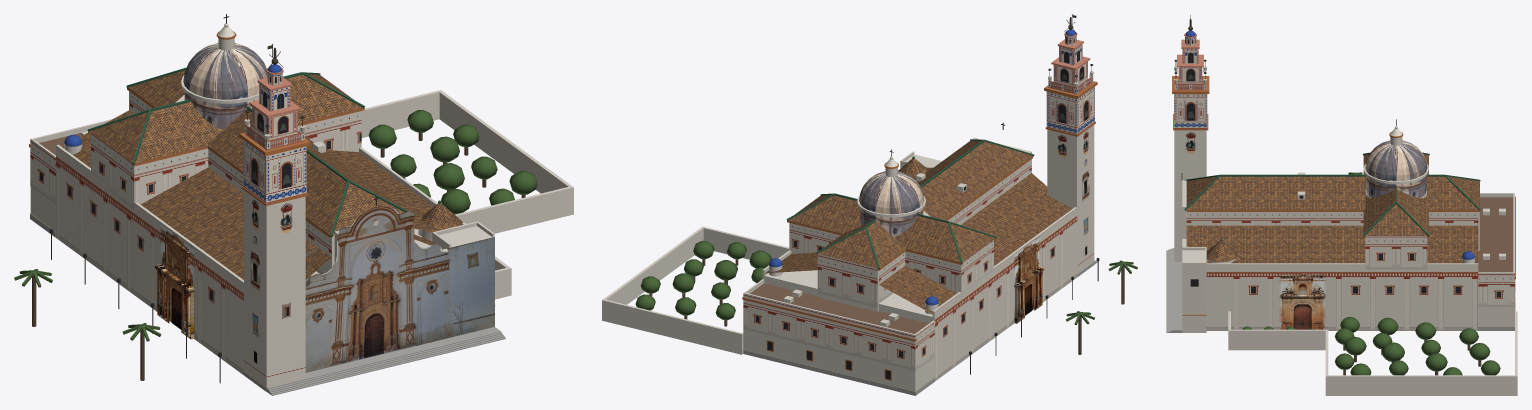
File: iglesia_granada_moguer.glb
3 renders of one model, left to right at view 1: azimuth 30°, elevation 25°; view 2: azimuth 150°, elevation 25°; view 3: azimuth 270°, elevation 25°, orthographic. The views are drawn at different scales.
Visible parts, largest first — view 1: IG_Tejado_Nave_N, IG_Fachada_Oeste, IG_Muro_Norte, IG_Cuerpo, IG_Clere_N, IG_Torre_Cana_O, IG_Arbol_Copa_0, IG_Torre_Cana_N, IG_Cupula, IG_Grada_0, IG_Torre_Campanas_O, IG_PN_Puerta (+9 smaller); view 2: IG_Tejado_Nave_N, IG_Cuerpo, IG_Clere_N, IG_Muro_Norte, IG_Arbol_Copa_0, IG_Torre_Cana_N, IG_Cupula, IG_Sacristia_Azotea, IG_Torre_Cana_Alta_E, IG_Cornisa_Nave_N, IG_Torre_Campanas_O, IG_PN_Puerta (+5 smaller); view 3: IG_Tejado_Nave_N, IG_Muro_Sur, IG_Cuerpo, IG_Clere_N, IG_Arbol_Copa_0, IG_Sacristia_Azotea, IG_Cupula, IG_PS_Puerta, IG_Torre_Cana_Alta_E, IG_Grada_0, IG_Torre_Campanas_O, IG_Lima_0 (+4 smaller).
Part boxes in pixels (box(x1,y1,x2,y2)): IG_Tejado_Nave_N: box(62, 70, 462, 279); IG_Fachada_Oeste: box(305, 206, 494, 372); IG_Muro_Norte: box(56, 146, 243, 374); IG_Cuerpo: box(30, 23, 573, 299); IG_Clere_N: box(30, 92, 361, 274); IG_Torre_Cana_O: box(266, 196, 305, 387); IG_Arbol_Copa_0: box(14, 110, 537, 341); IG_Torre_Cana_N: box(244, 190, 266, 387); IG_Cupula: box(183, 43, 267, 99); IG_Grada_0: box(30, 213, 505, 395); IG_Torre_Campanas_O: box(243, 140, 306, 203); IG_PN_Puerta: box(155, 234, 194, 339); IG_Tejado_Nave_N: box(765, 140, 1072, 313); IG_Cuerpo: box(602, 70, 1093, 391); IG_Clere_N: box(743, 159, 1031, 370); IG_Muro_Norte: box(935, 208, 1077, 381); IG_Arbol_Copa_0: box(635, 240, 1137, 324); IG_Torre_Cana_N: box(1077, 125, 1094, 273); IG_Cupula: box(859, 171, 924, 214); IG_Sacristia_Azotea: box(750, 283, 928, 333); IG_Torre_Cana_Alta_E: box(1047, 129, 1076, 207); IG_Cornisa_Nave_N: box(742, 81, 1097, 380); IG_Torre_Campanas_O: box(1046, 87, 1094, 134); IG_PN_Puerta: box(1014, 244, 1044, 323); IG_Tejado_Nave_N: box(1186, 154, 1479, 263); IG_Muro_Sur: box(1206, 264, 1478, 330); IG_Cuerpo: box(1174, 66, 1517, 395); IG_Clere_N: box(1186, 212, 1514, 307); IG_Arbol_Copa_0: box(1242, 172, 1500, 375); IG_Sacristia_Azotea: box(1478, 197, 1513, 272); IG_Cupula: box(1365, 140, 1427, 181); IG_PS_Puerta: box(1281, 277, 1323, 329); IG_Torre_Cana_Alta_E: box(1174, 130, 1206, 197); IG_Grada_0: box(1166, 248, 1515, 332); IG_Torre_Campanas_O: box(1174, 94, 1207, 128); IG_Lima_0: box(1184, 152, 1480, 240).
Bounding box in the file's own units: 2.75 × 1.65 × 2.17.
29 materials, 17 textured.
